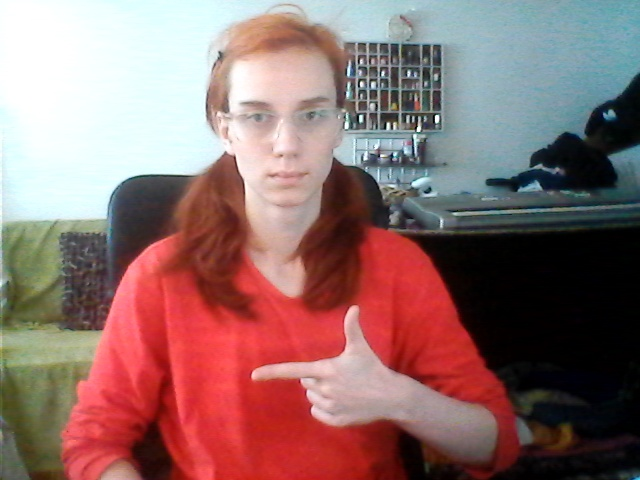dva_dve: (247, 302, 403, 431)
